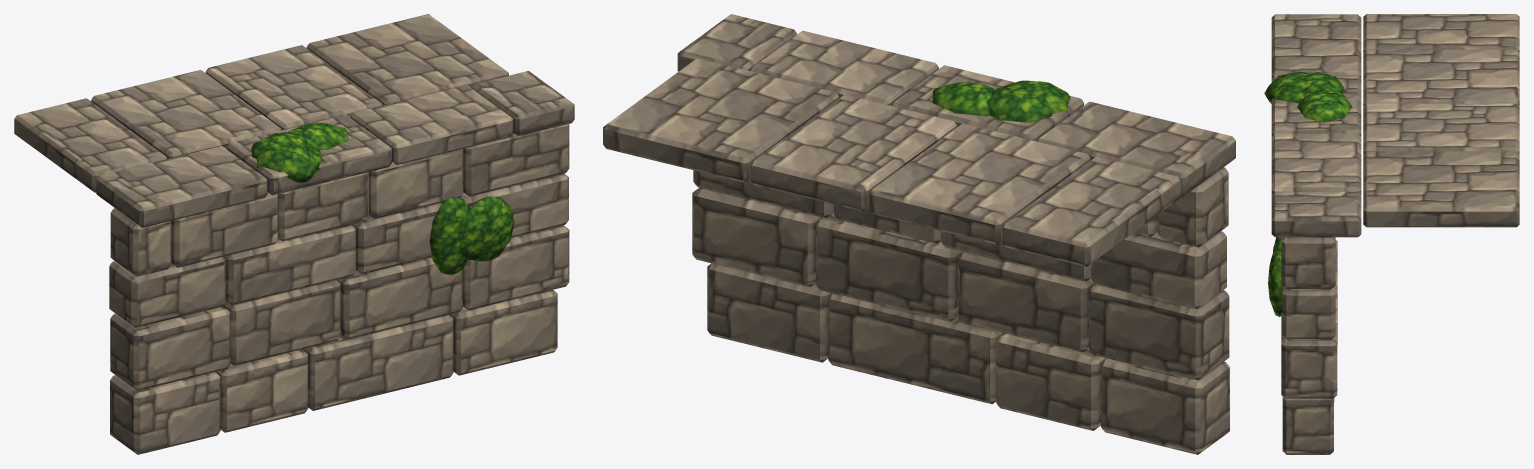
File: mapkit_face_forest.fbx
The picture shows the model from 3 angles, left to right: view 1: azimuth 30°, elevation 25°; view 2: azimuth 150°, elevation 25°; view 3: azimuth 270°, elevation 25°; orthographic projection. The views are drawn at different scales.
Visible parts, largest first — view 1: Body; view 2: Body; view 3: Body.
Boxes of the visible parts, x1=… form: Body: x1=14, y1=14, x2=574, y2=454; Body: x1=603, y1=14, x2=1235, y2=454; Body: x1=1264, y1=14, x2=1519, y2=454.
Size of the model in its own units: 1196 by 699 by 629.
Materials: 1 (1 with a texture image).
